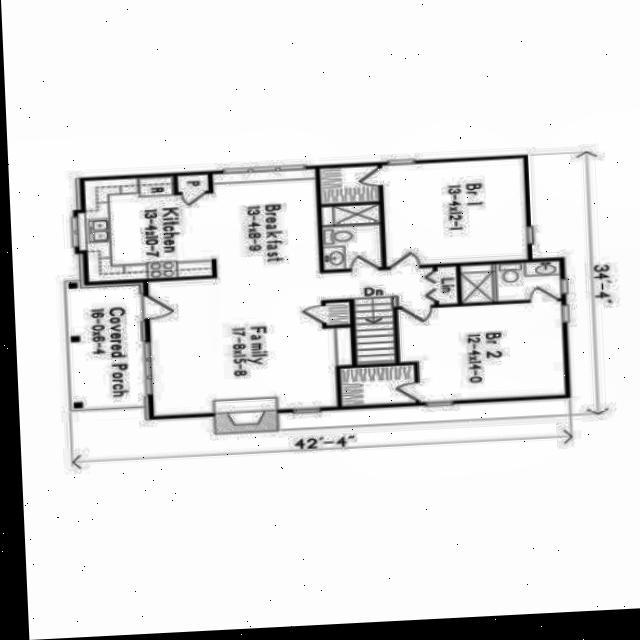room: (84, 161, 462, 419), (337, 302, 564, 406), (319, 158, 527, 269), (459, 261, 560, 303), (321, 205, 380, 270)
